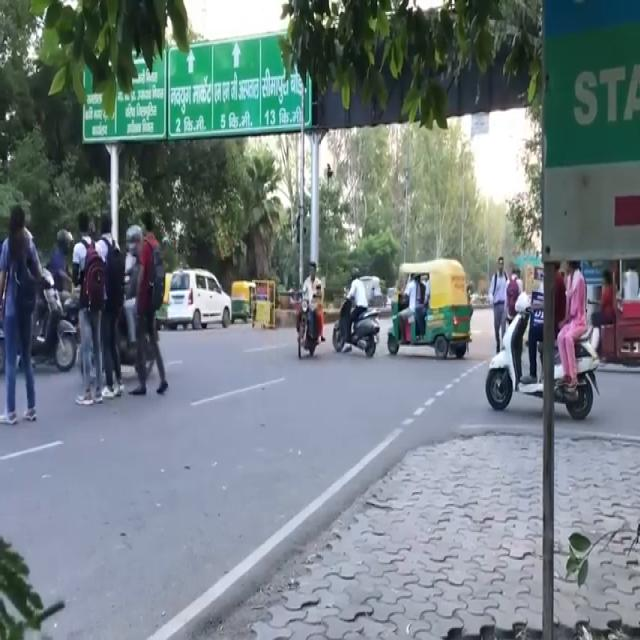MOTORCYCLE: (483, 305, 597, 419), (334, 295, 383, 358), (294, 292, 323, 359)
